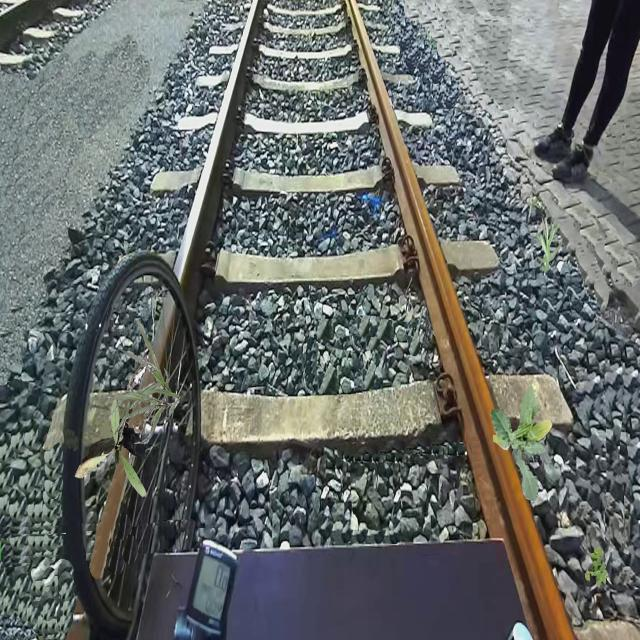Plant: (108, 319, 181, 444), (490, 378, 552, 502), (75, 398, 146, 498), (535, 216, 562, 272), (585, 547, 609, 588)
